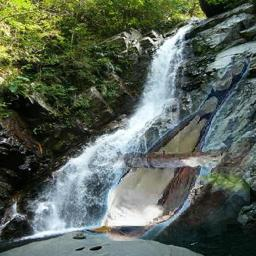Cuckoo: (84, 57, 250, 241)
